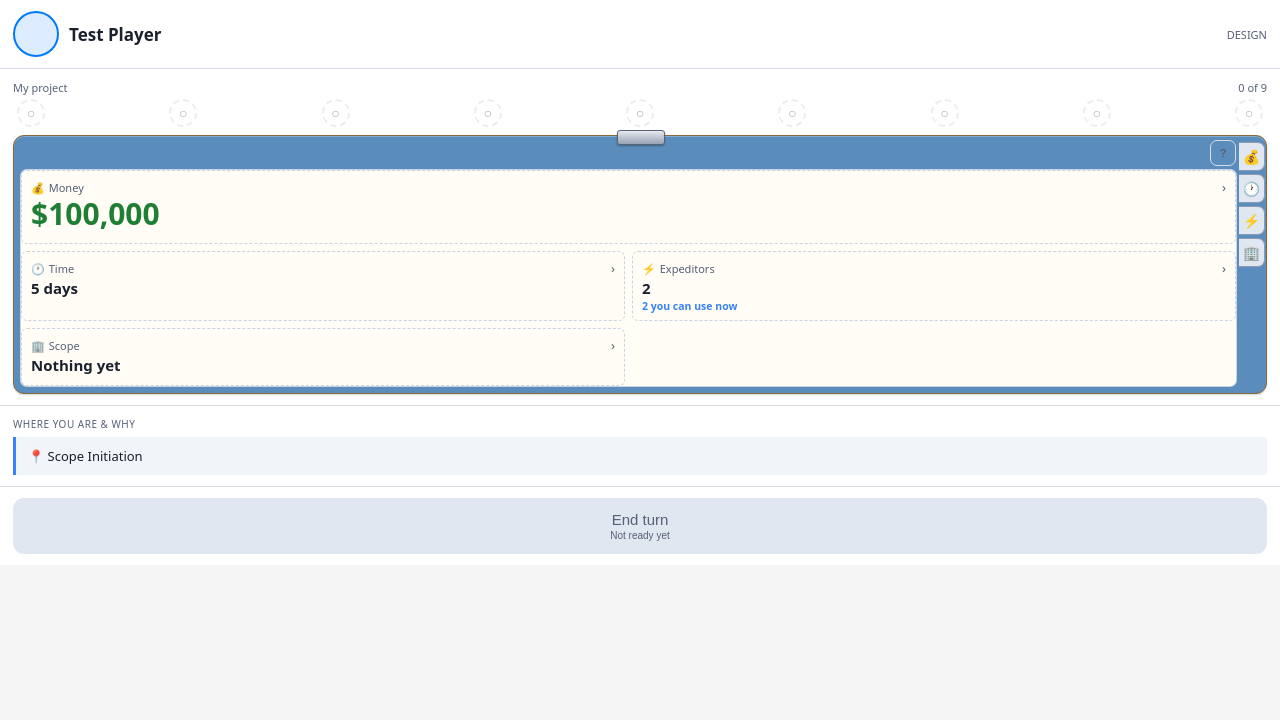
Test case: PlayerPanelV2 — E-card play from the influence zone › offers Activate for a NON-Expeditor family when CARD_TYPES says it is playable from hand
Step 1. Click the button with test id "glance-expeditors" → (687, 268), box [632,251,1236,321]
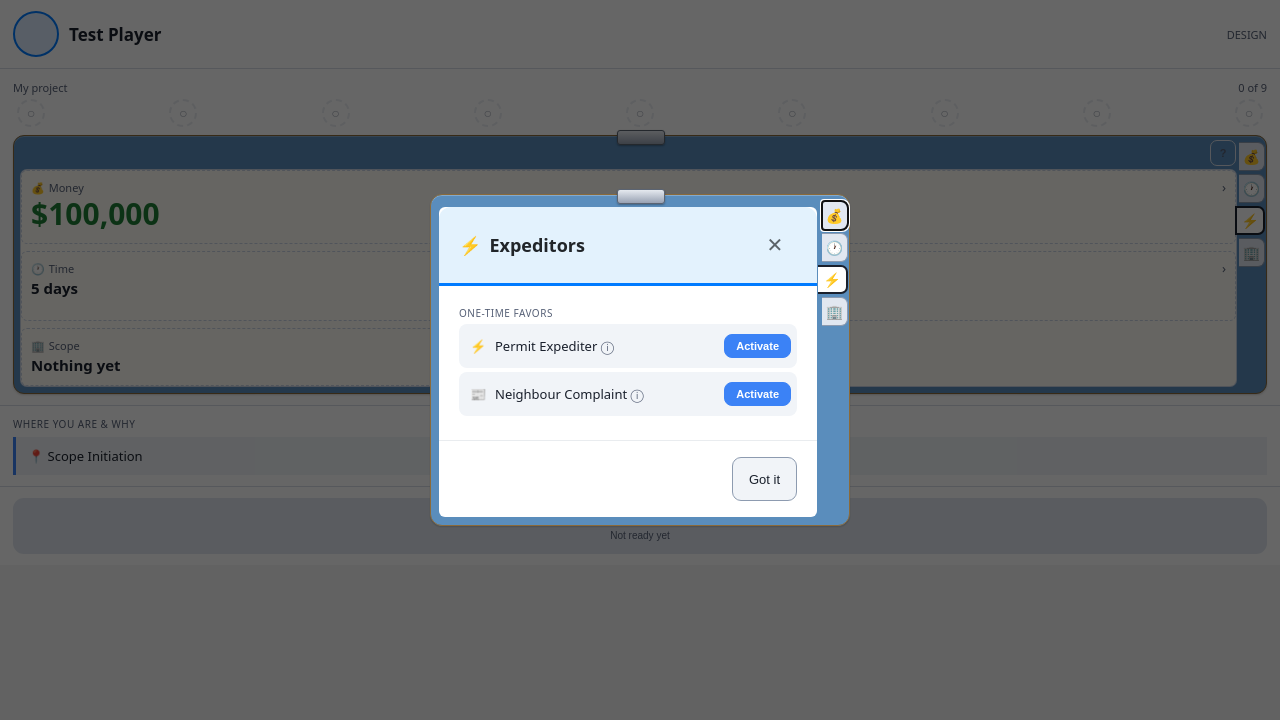
Expected: the button with aria-label "Activate Neighbour Complaint" is shown, [724,382,791,406]
Expected: the button with aria-label "Activate Permit Expediter" is shown, [724,334,791,358]
